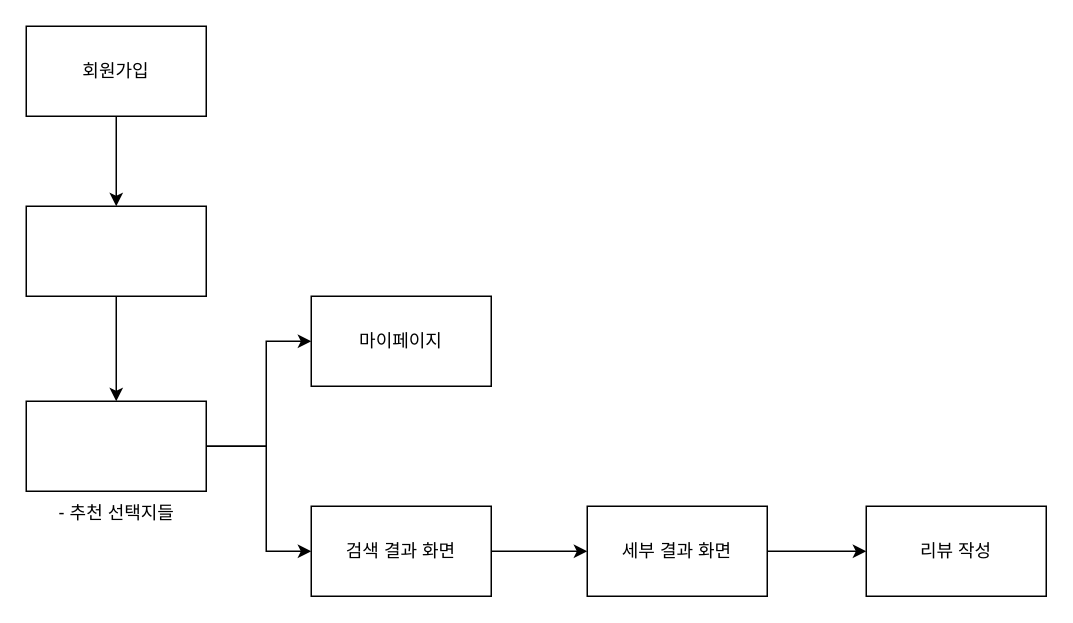
Image size: 1073x623. Some labels were removed from this diagram. Here are the shapes that lost their labels. From the top down, the box of each, then its label:
(25, 205, 206, 296): 로그인
(25, 400, 206, 491): 메인 화면
